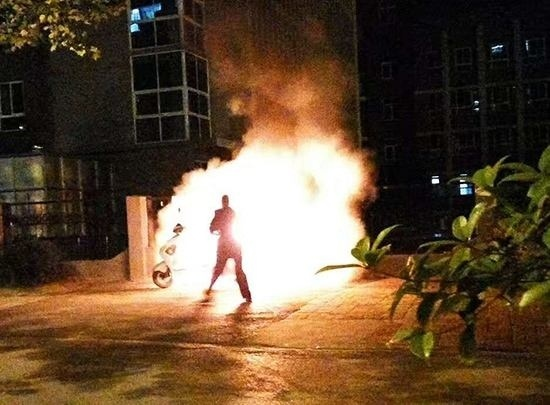fire: (148, 130, 376, 312)
